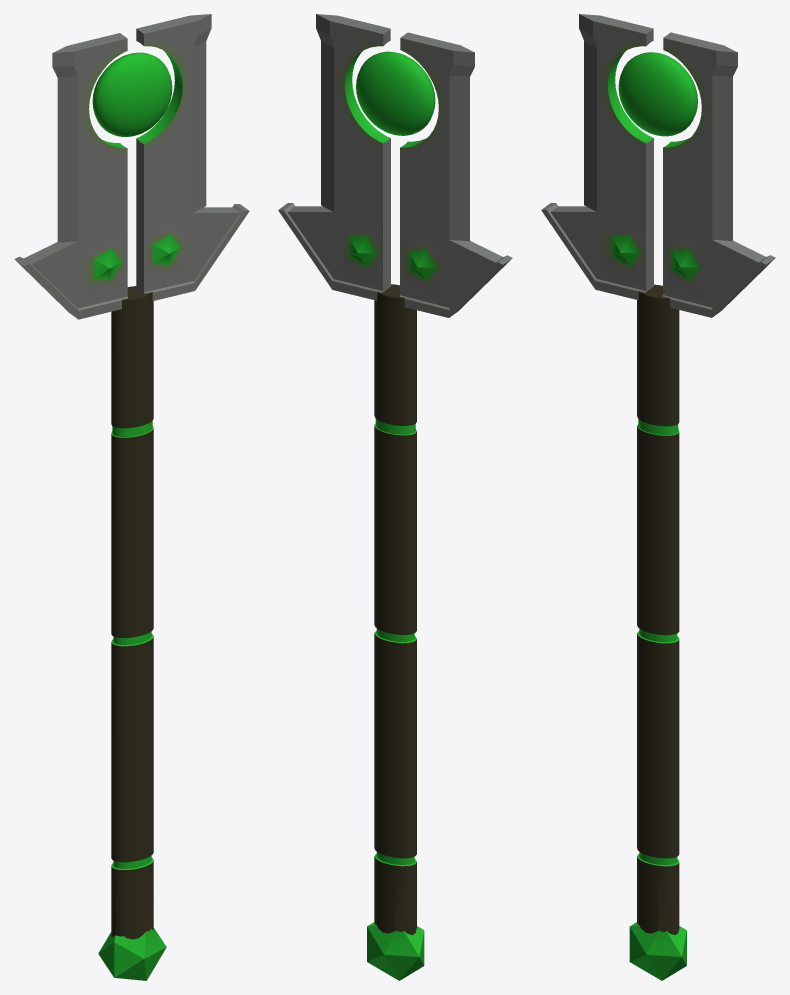
The model's file is ComBined.fbx.
The picture shows the model from 3 angles, left to right: view 1: azimuth 30°, elevation 25°; view 2: azimuth 150°, elevation 25°; view 3: azimuth 330°, elevation 25°; orthographic projection.
Parts seen in each view (by area): view 1: ComBined; view 2: ComBined; view 3: ComBined.
Boxes of the visible parts, x1,y1,x2,y2 form: ComBined: (14,14,249,980); ComBined: (278,14,512,980); ComBined: (541,14,775,980).
Size of the model in its own units: 5.09 by 20.35 by 0.9116.
